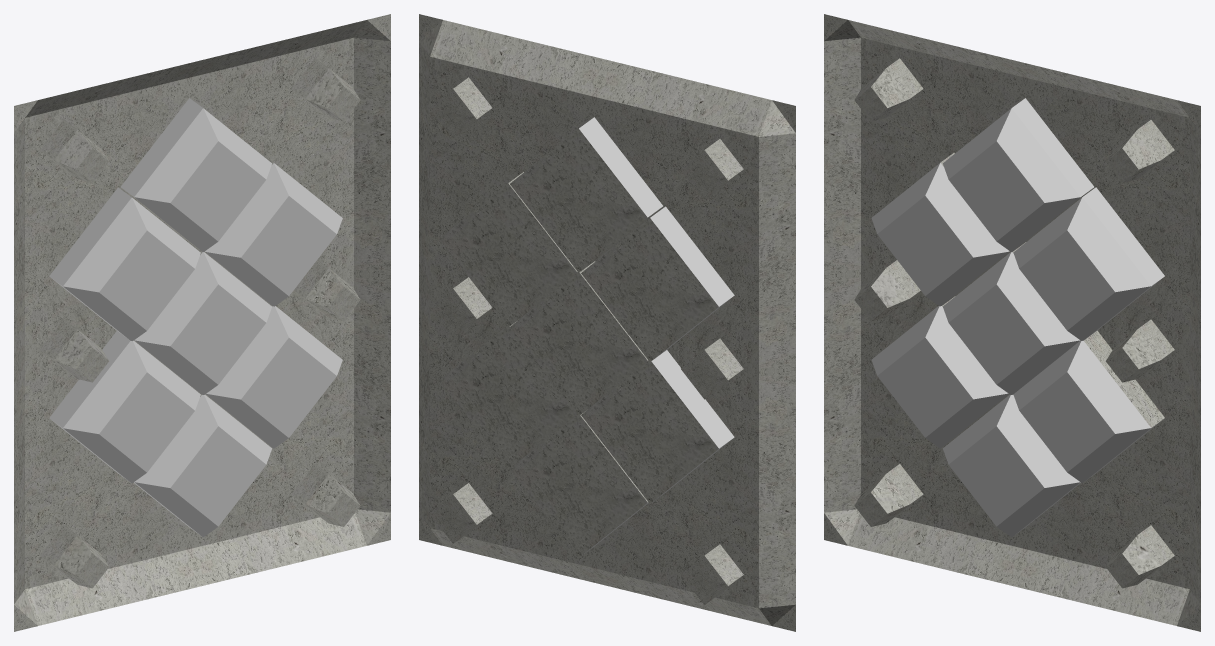
The model's file is CubeWall_MetalTest.fbx.
The picture shows the model from 3 angles, left to right: view 1: azimuth 30°, elevation 25°; view 2: azimuth 150°, elevation 25°; view 3: azimuth 330°, elevation 25°; orthographic projection.
Visible parts, largest first — view 1: pPlane8; view 2: pPlane8; view 3: pPlane8.
Boxes of the visible parts, <box> form: pPlane8: <box>14,14,390,631</box>; pPlane8: <box>419,14,795,631</box>; pPlane8: <box>824,14,1200,631</box>.
Size of the model in its own units: 3 by 4 by 0.6154.
